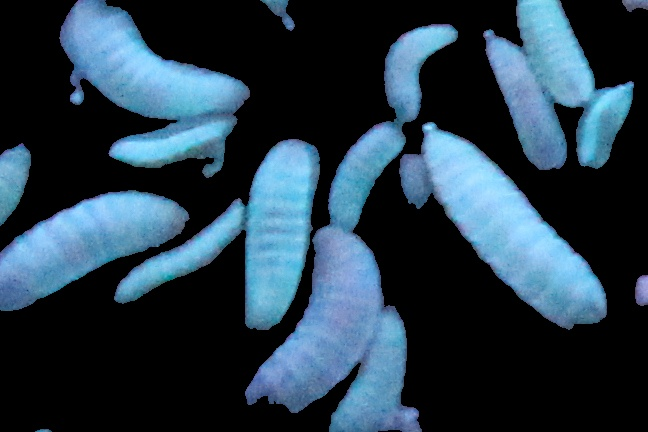larvae: (419, 125, 609, 336), (242, 225, 384, 412), (1, 190, 189, 314), (58, 3, 248, 118), (119, 199, 246, 309), (246, 140, 319, 327), (484, 31, 562, 176), (328, 304, 407, 432), (509, 1, 593, 106), (326, 123, 405, 224), (383, 22, 460, 119), (107, 114, 235, 168), (570, 81, 638, 171), (1, 140, 33, 230)
